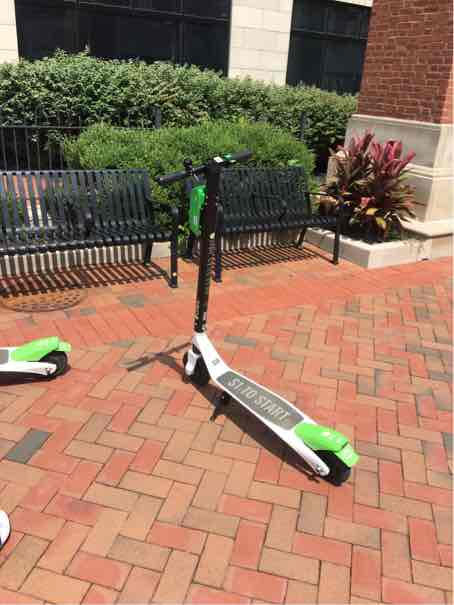scooter: (115, 147, 391, 490)
